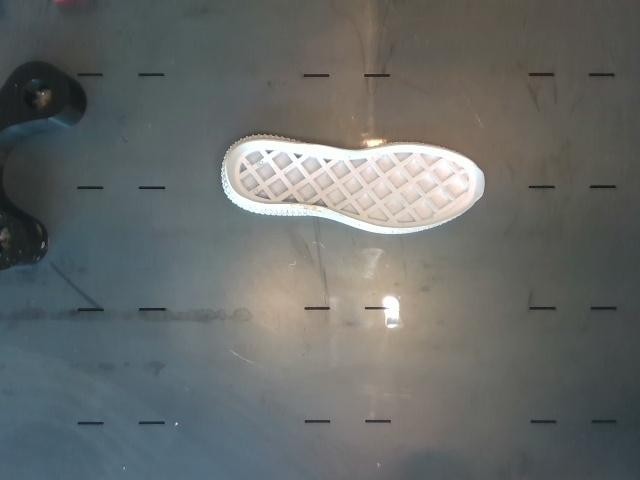shoes: (225, 141, 483, 229)
